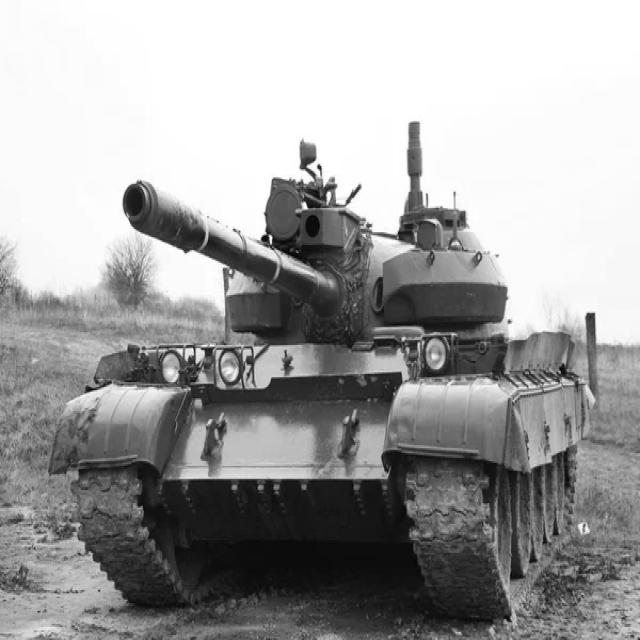Tank: (45, 107, 608, 618)
